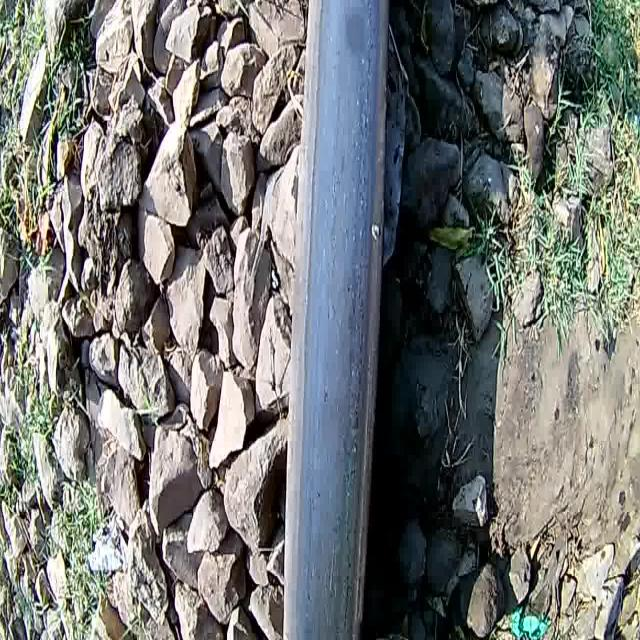Squats: (266, 0, 405, 640)
